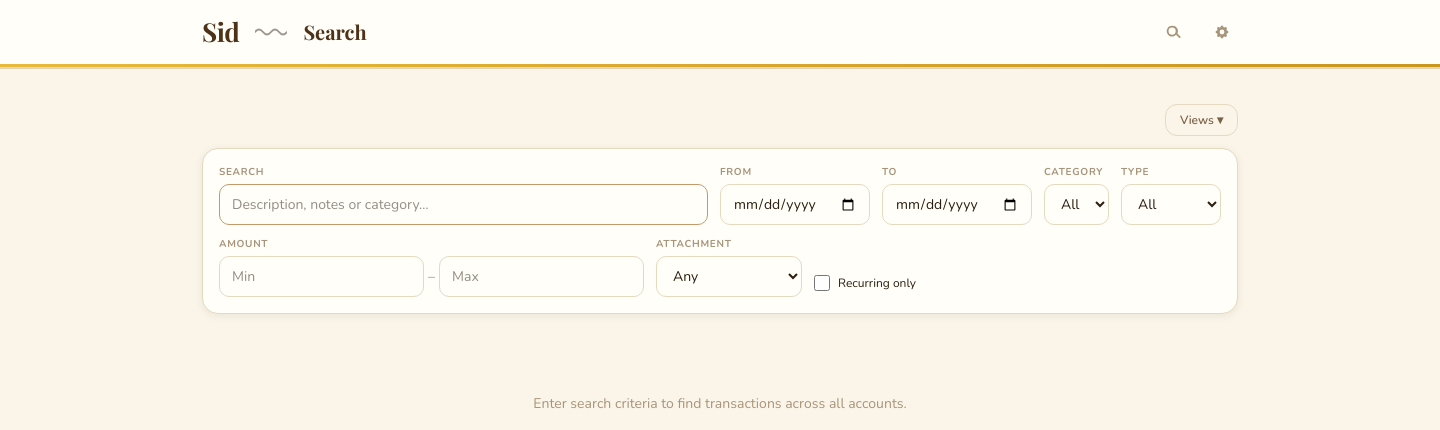
Scenario: Search page › shows "No matches" when the API returns empty results
Type "nothingmatches" into the field with placeholder "Description, notes or category…".
click(464, 204); type("nothingmatches")  # box x1=219 y1=184 x2=708 y2=225
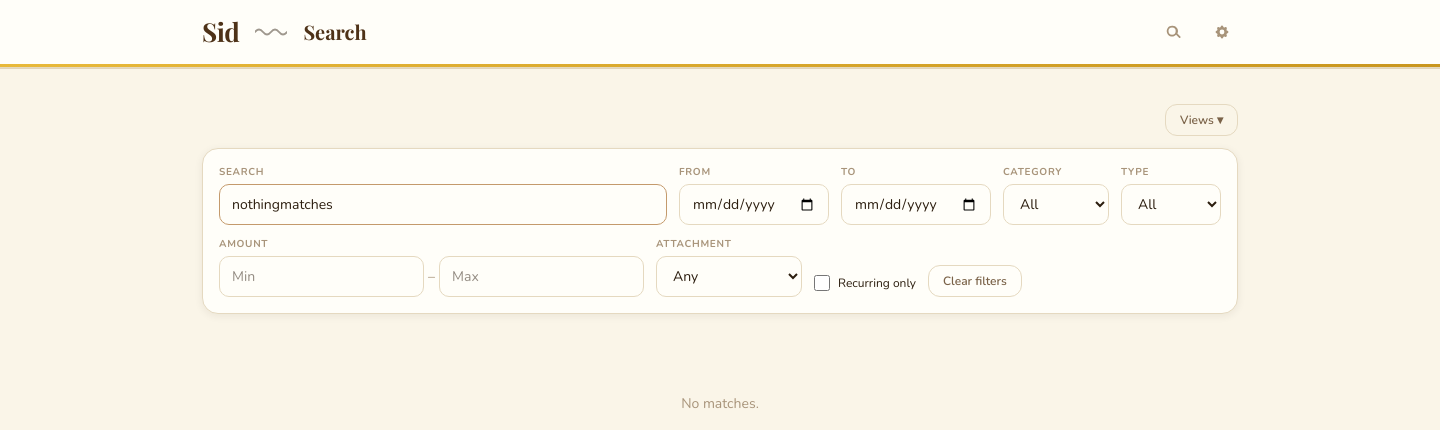
Expected: the text "No matches." is shown, x1=681 y1=394 x2=759 y2=413
